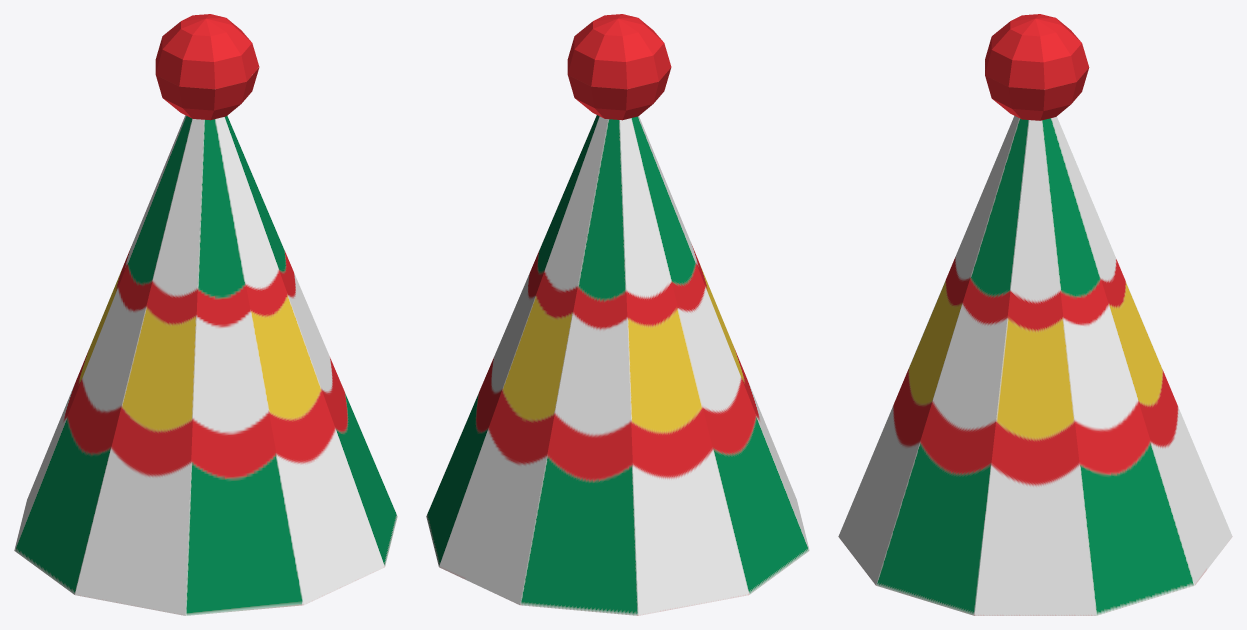
The model's file is Birthday_supplies01.fbx.
The picture shows the model from 3 angles, left to right: view 1: azimuth 30°, elevation 25°; view 2: azimuth 150°, elevation 25°; view 3: azimuth 270°, elevation 25°; orthographic projection.
Parts seen in each view (by area): view 1: Birthday_supplies01; view 2: Birthday_supplies01; view 3: Birthday_supplies01.
Part boxes in pixels (bbox=[...]): Birthday_supplies01: bbox=[14, 14, 397, 615]; Birthday_supplies01: bbox=[426, 14, 809, 615]; Birthday_supplies01: bbox=[838, 14, 1232, 615].
Bounding box in the file's own units: 190 × 290 × 200.
1 material, 1 textured.
